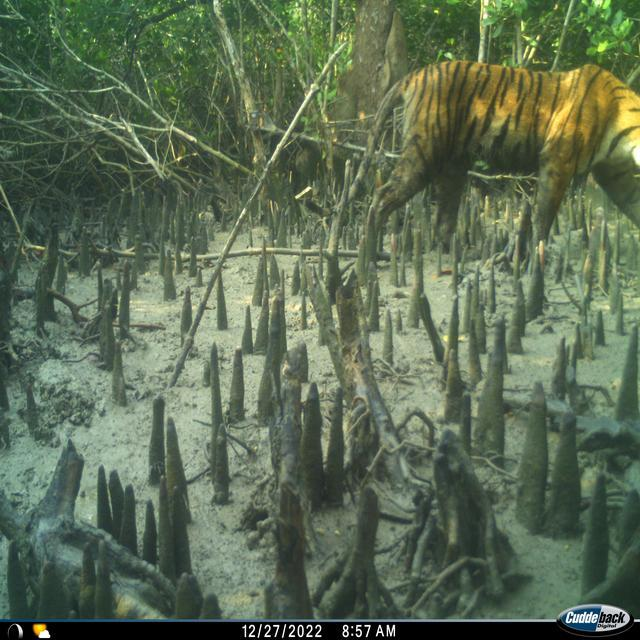tiger: (356, 58, 639, 280)
